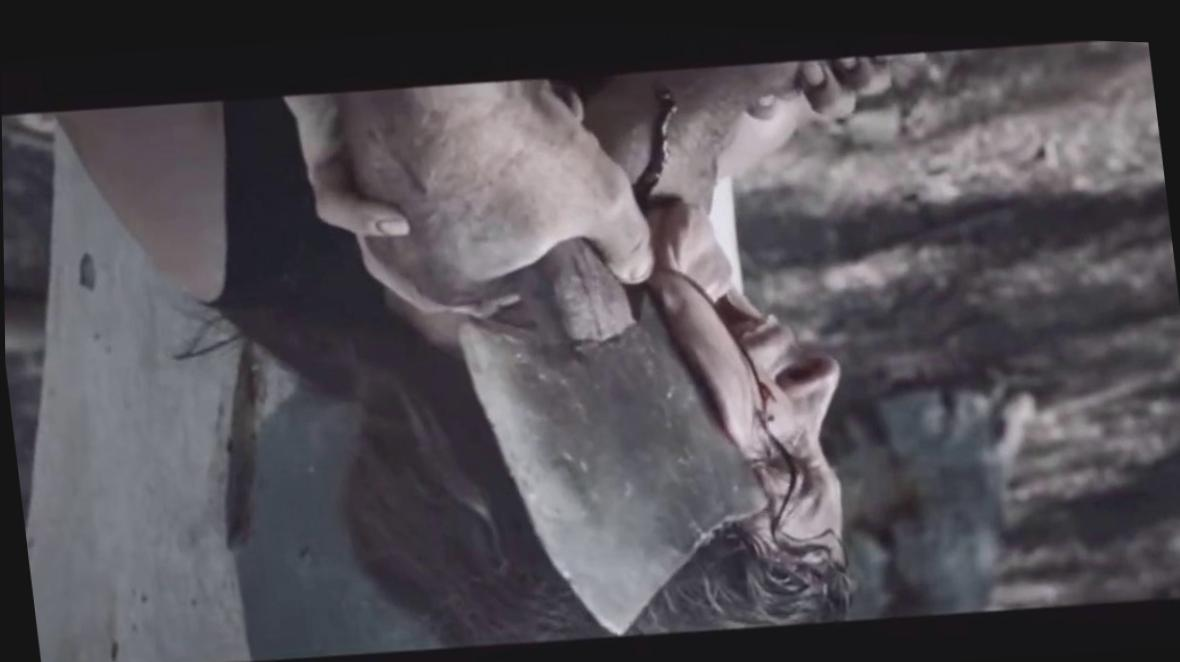Fire: (632, 92, 674, 206), (772, 429, 794, 526), (670, 264, 713, 299), (753, 366, 773, 421)
